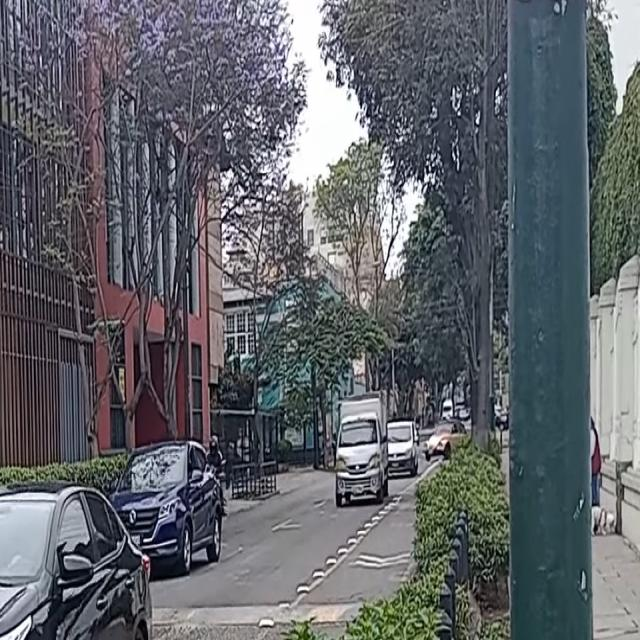car: (0, 490, 153, 640), (108, 441, 224, 568), (384, 422, 420, 476), (423, 419, 468, 459)
truck: (336, 399, 388, 504)
